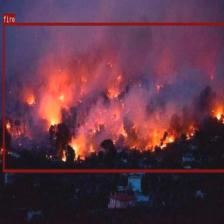fire: (2, 22, 224, 171)
